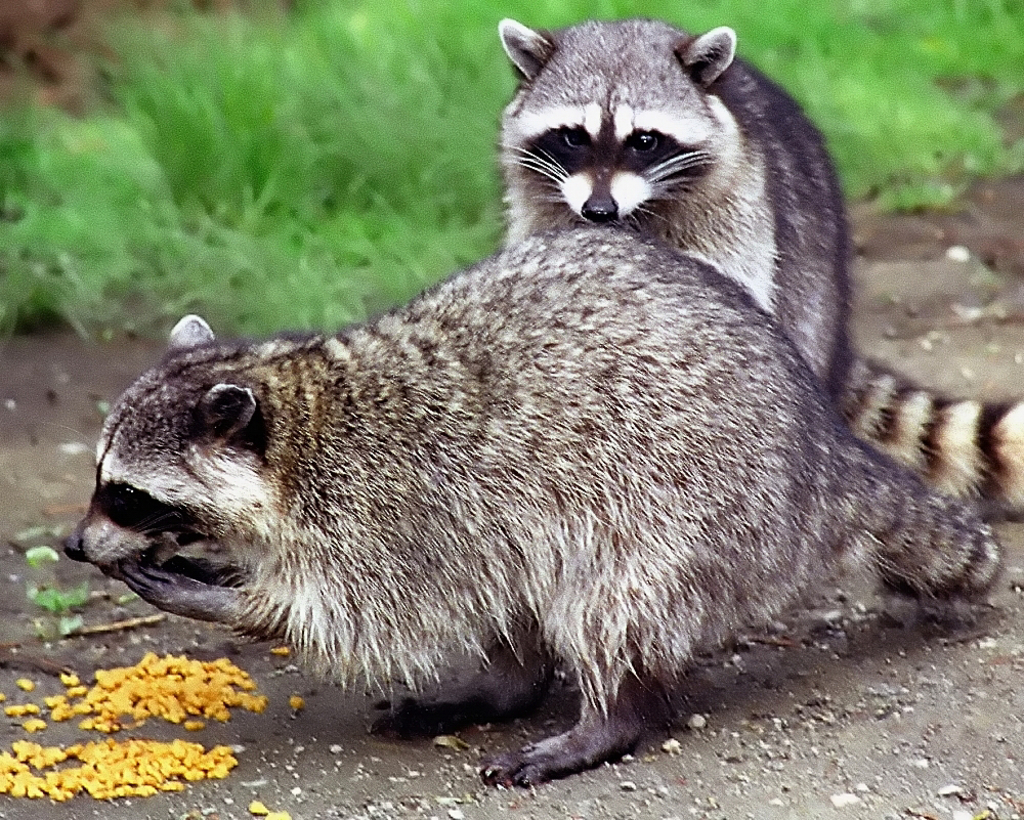raccoon: (63, 232, 1007, 784), (498, 12, 1024, 503)
